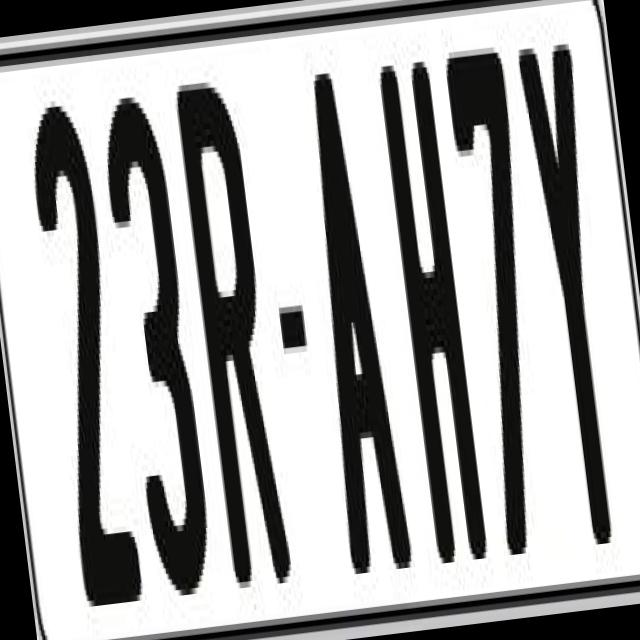2: (21, 92, 140, 613)
3: (92, 76, 218, 581)
7: (440, 39, 566, 556)
A: (288, 70, 412, 580)
H: (374, 49, 494, 558)
R: (172, 79, 299, 612)
Y: (516, 31, 640, 558)
